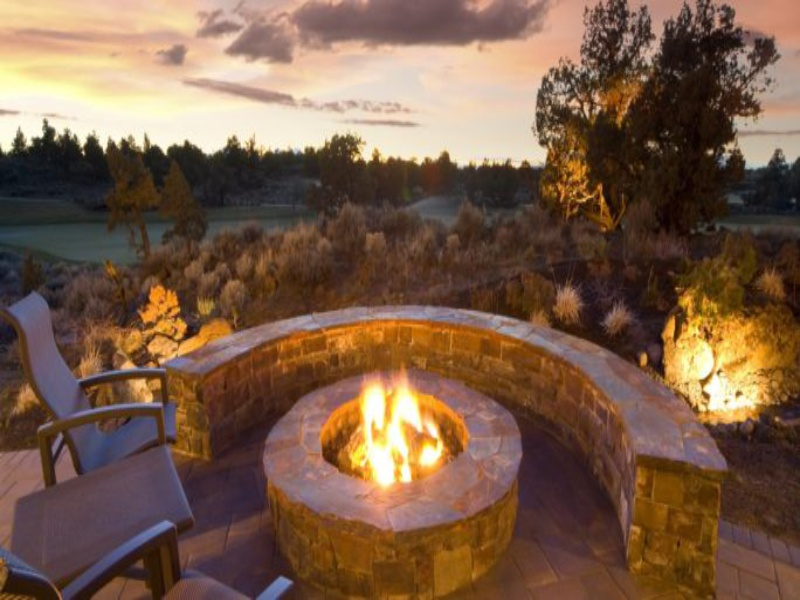fire: (360, 363, 423, 478), (423, 420, 443, 461)
